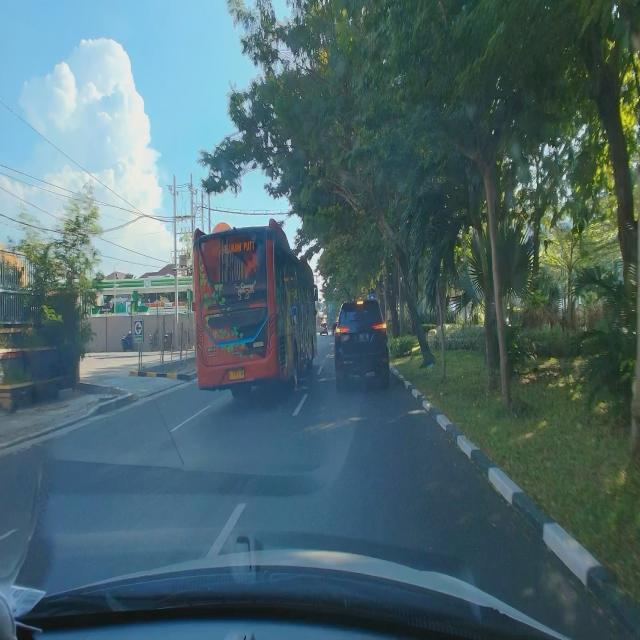bus: (191, 218, 318, 399)
car: (332, 297, 390, 395)
license-plate: (229, 369, 245, 380), (354, 333, 369, 343)
